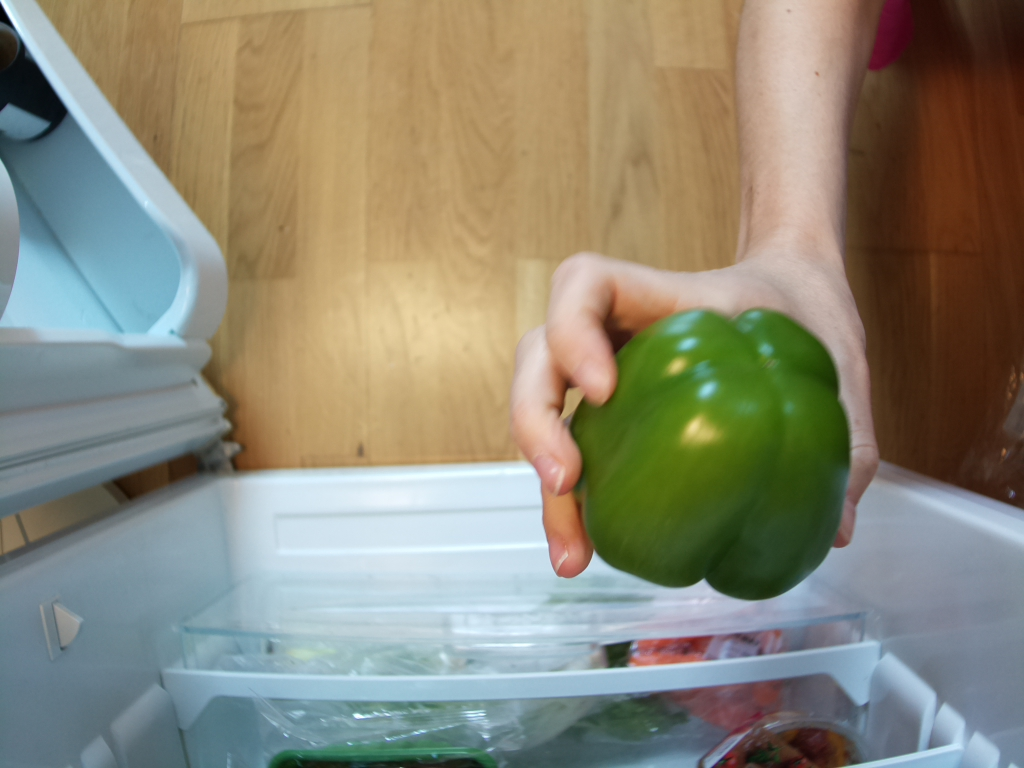pepper: (568, 310, 851, 602)
